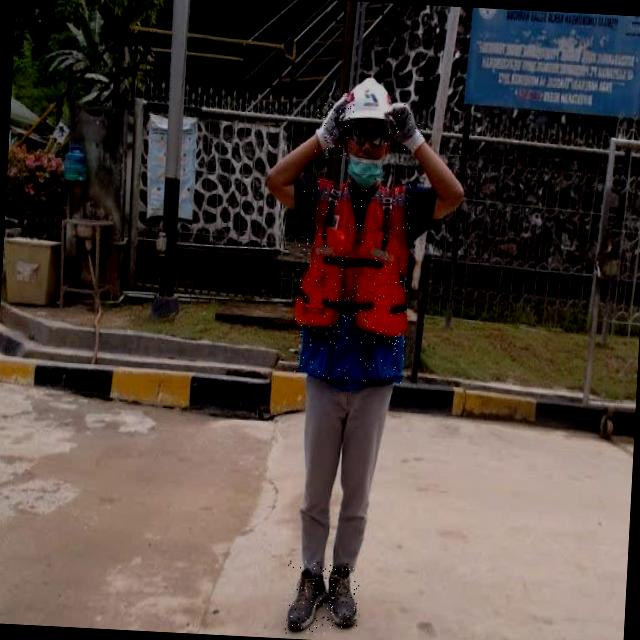boots: (284, 560, 330, 636), (325, 562, 360, 630)
gloves: (294, 95, 352, 164), (383, 94, 430, 164)
helmet: (326, 67, 416, 134)
vest: (292, 174, 415, 383)
